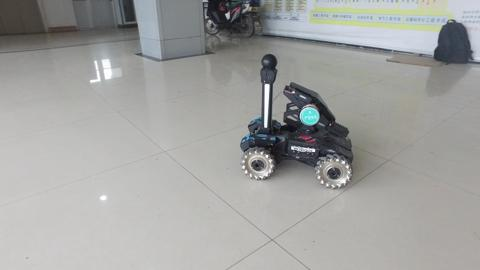bag: (431, 16, 473, 67)
chariot: (238, 52, 354, 190)
